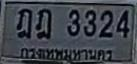2: (99, 10, 113, 37)
3: (67, 9, 80, 36), (84, 10, 96, 37)
4: (116, 10, 128, 38)
A14: (16, 8, 32, 39), (35, 9, 51, 39)
BKK: (16, 45, 115, 61)
